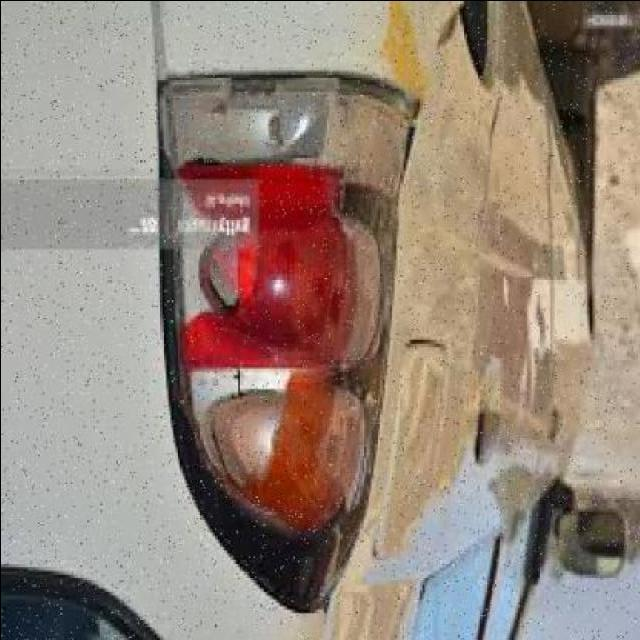Taillight-Damage: (127, 20, 427, 611)
